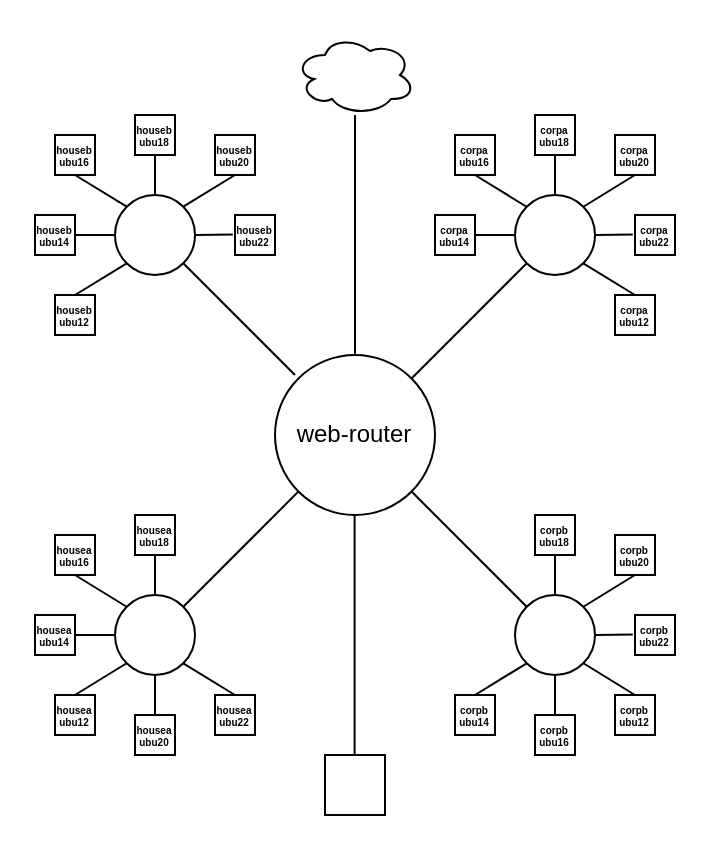
Image size: 710x850. Some labels were removed from this diagram. Each missing label, with the centre of its shape:
"attacker" goes at (354,784).
"corpA-router" goes at (554,234).
"corpB-router" goes at (554,634).
"houseA-router" goes at (154,634).
"houseB-router" goes at (154,234).
"internet" goes at (354,74).
